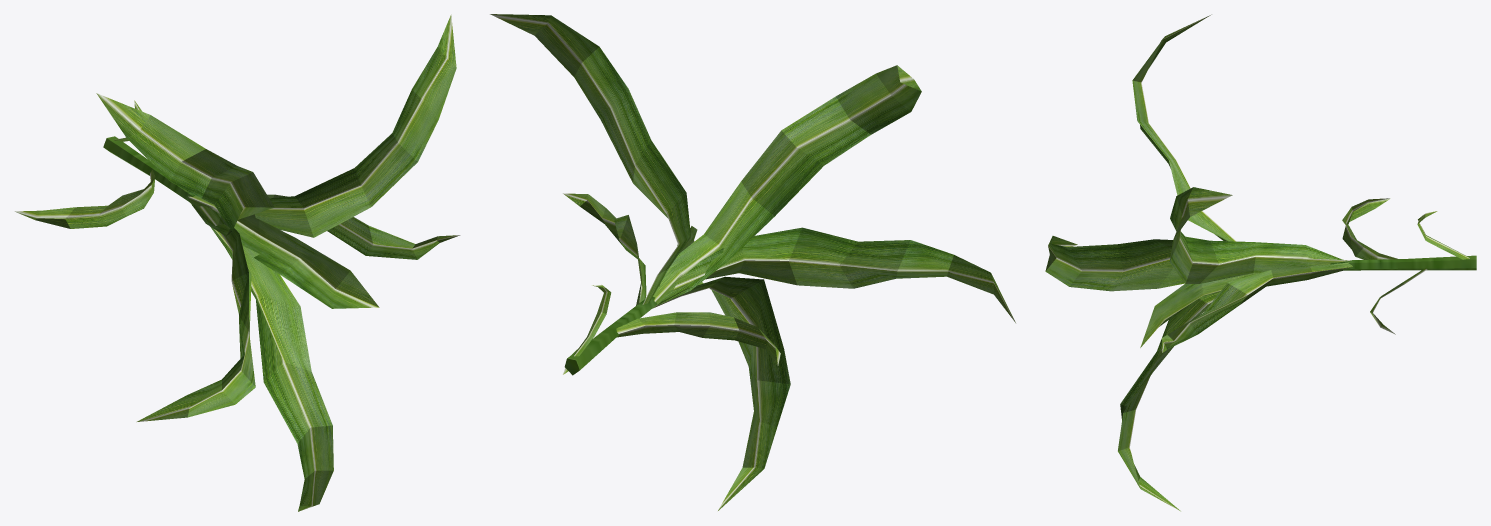
Rendered from maize_medium.obj.
3 renders of one model, left to right at view 1: azimuth 30°, elevation 25°; view 2: azimuth 150°, elevation 25°; view 3: azimuth 270°, elevation 25°, orthographic. The views are drawn at different scales.
Parts seen in each view (by area): view 1: maize_medium_unit.001_Plane.007; view 2: maize_medium_unit.001_Plane.007; view 3: maize_medium_unit.001_Plane.007.
Part boxes in pixels (<box>): maize_medium_unit.001_Plane.007: <box>14,14,460,511</box>; maize_medium_unit.001_Plane.007: <box>490,14,1015,510</box>; maize_medium_unit.001_Plane.007: <box>1045,14,1476,511</box>.
Bounding box in the file's own units: 0.3439 × 0.3715 × 0.3497.
1 material, 1 textured.
